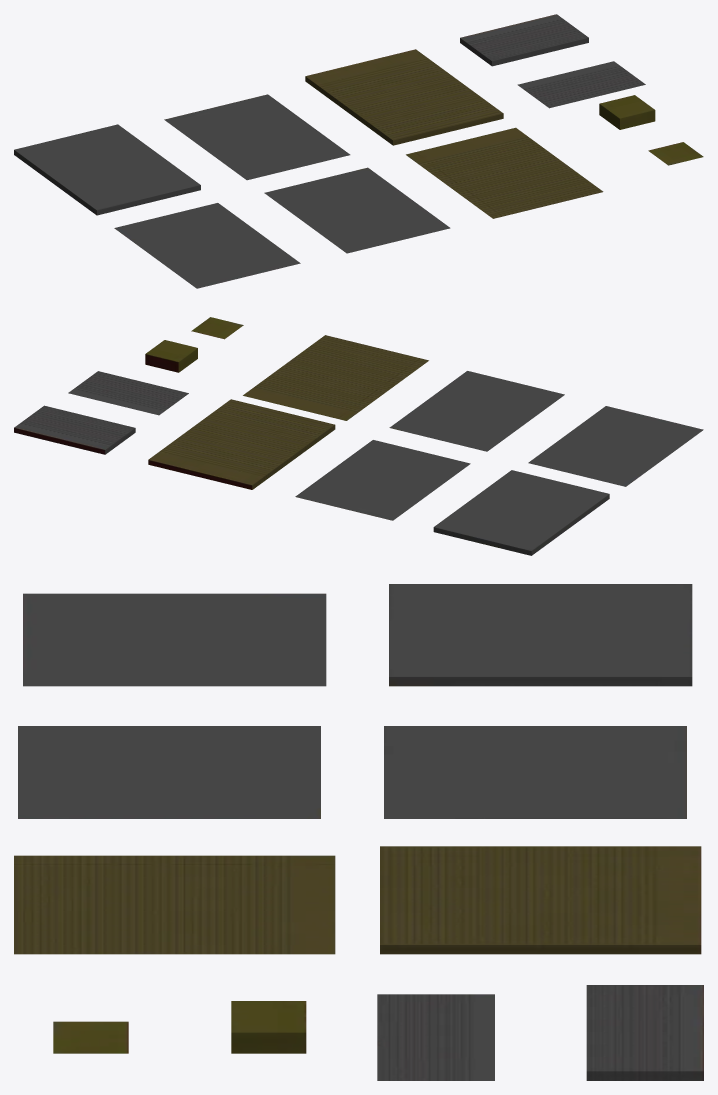
The model's file is office_notepads.glb.
3 renders of one model, top to bottom at view 1: azimuth 30°, elevation 25°; view 2: azimuth 150°, elevation 25°; view 3: azimuth 270°, elevation 25°, orthographic. The views are drawn at different scales.
Parts seen in each view (by area): view 1: office_notepads_yellow_sheet; view 2: office_notepads_yellow_sheet; view 3: office_notepads_yellow_sheet.
Part boxes in pixels (left/top/right/bottom): office_notepads_yellow_sheet: left=14, top=14, right=703, bottom=288; office_notepads_yellow_sheet: left=14, top=317, right=703, bottom=555; office_notepads_yellow_sheet: left=14, top=584, right=703, bottom=1080.
Size of the model in its own units: 1.1 by 0.0219 by 0.6598.
1 material, 1 textured.
